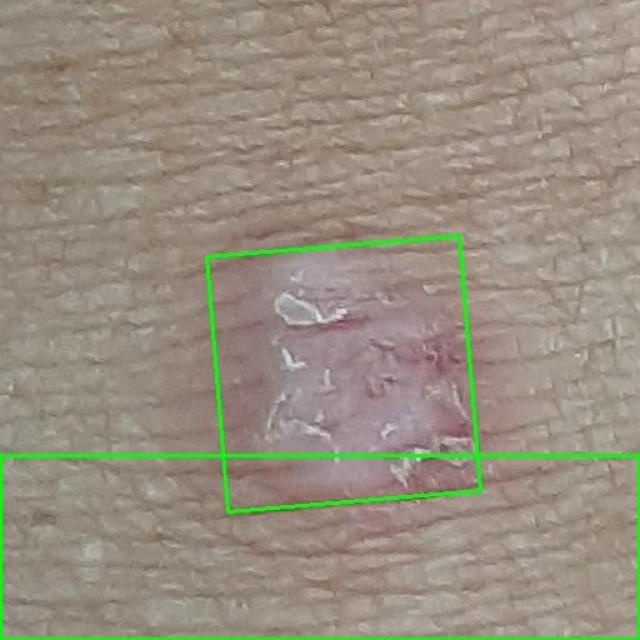Contact Dermatitis: (0, 455, 639, 639), (207, 236, 480, 511)
